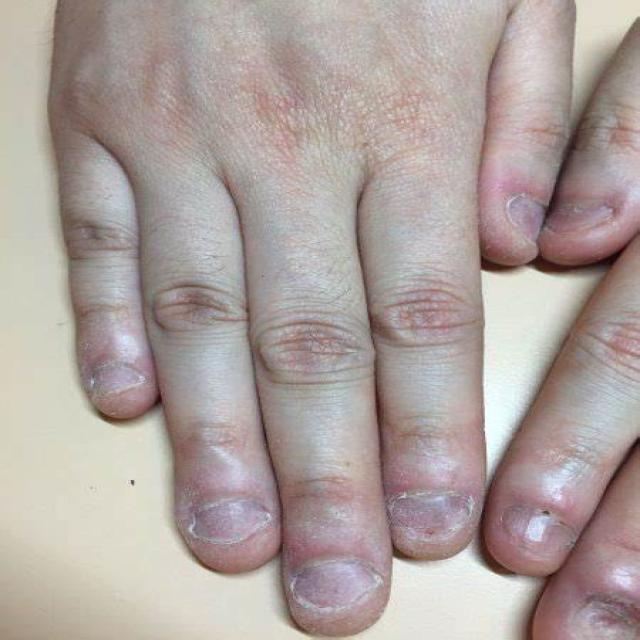Fingernail: (295, 561, 377, 612), (391, 494, 469, 540), (194, 500, 269, 542), (507, 509, 572, 554), (549, 204, 612, 234), (91, 364, 143, 396), (508, 197, 543, 241)
